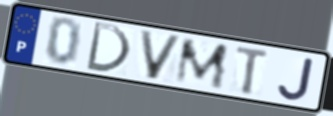0: (45, 17, 84, 68)
D: (83, 20, 133, 76)
J: (276, 56, 316, 102)
M: (172, 37, 231, 91)
T: (234, 44, 272, 96)
V: (137, 28, 185, 82)
